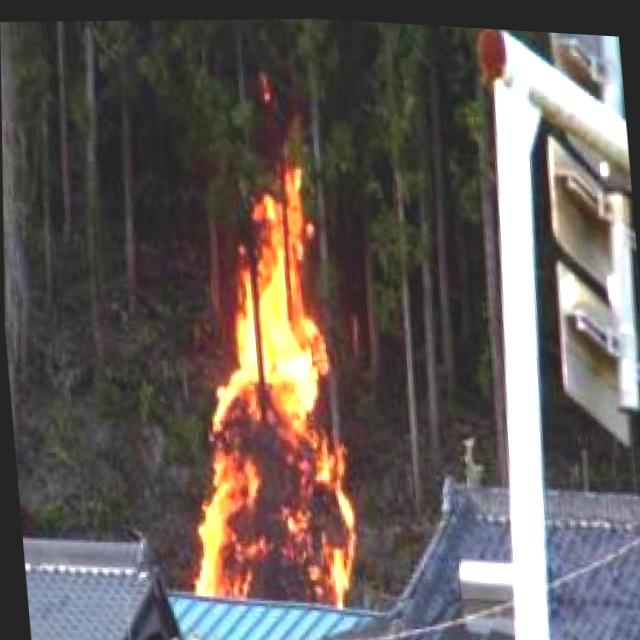Fire: (166, 178, 355, 611)
